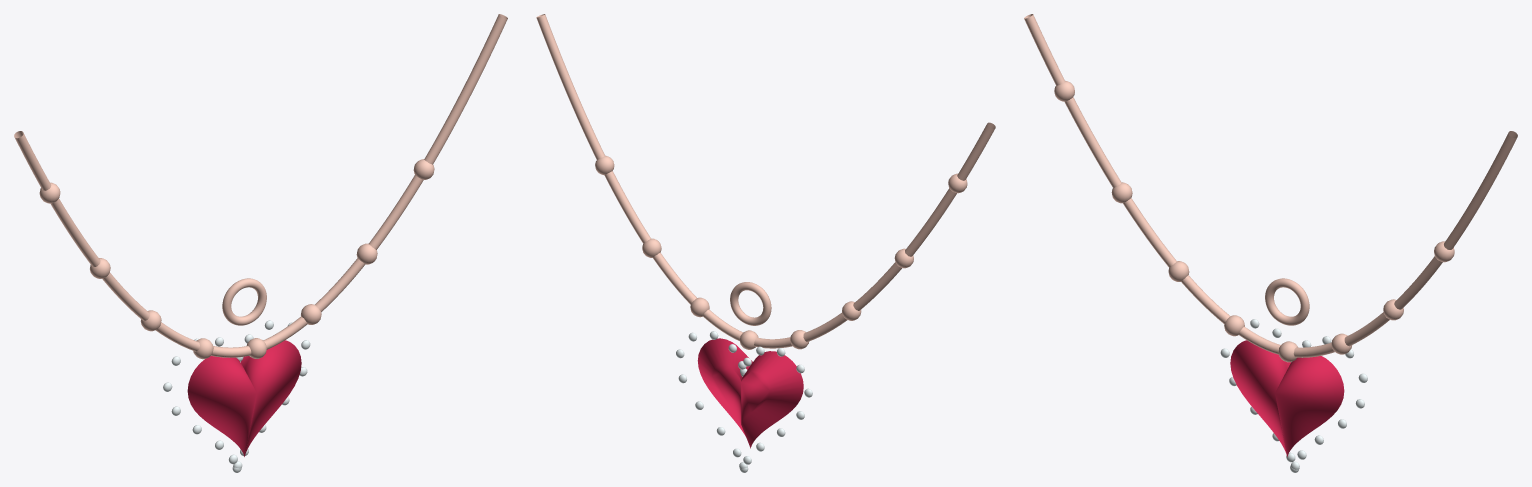
File: heart-necklace.v3.safe.glb
The picture shows the model from 3 angles, left to right: view 1: azimuth 30°, elevation 25°; view 2: azimuth 150°, elevation 25°; view 3: azimuth 330°, elevation 25°; orthographic projection. The views are drawn at different scales.
Visible parts, largest first — view 1: heart_ruby, heart_continuous_chain, heart_bail; view 2: heart_ruby, heart_continuous_chain, heart_bail; view 3: heart_ruby, heart_continuous_chain, heart_bail.
Boxes of the visible parts, bbox=[...] form: heart_ruby: bbox=[187, 340, 301, 456]; heart_continuous_chain: bbox=[14, 14, 507, 357]; heart_bail: bbox=[222, 278, 266, 325]; heart_ruby: bbox=[697, 338, 803, 448]; heart_continuous_chain: bbox=[536, 14, 995, 348]; heart_bail: bbox=[730, 282, 771, 325]; heart_ruby: bbox=[1230, 340, 1344, 456]; heart_continuous_chain: bbox=[1024, 14, 1517, 357]; heart_bail: bbox=[1265, 278, 1309, 325].
Bounding box in the file's own units: 1.38 × 1.12 × 0.1441.
